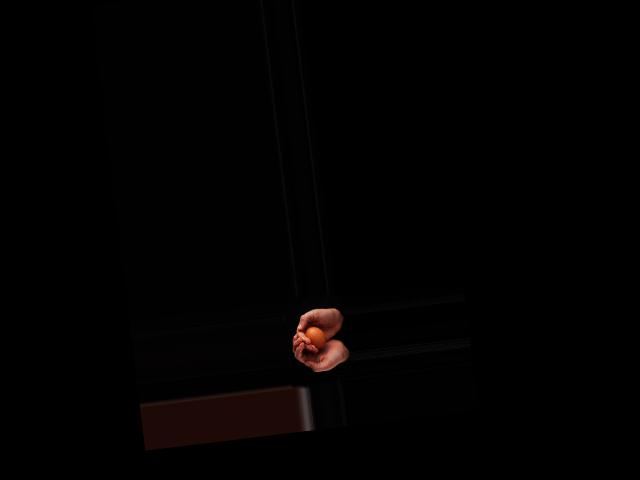egg: (304, 325, 327, 351)
